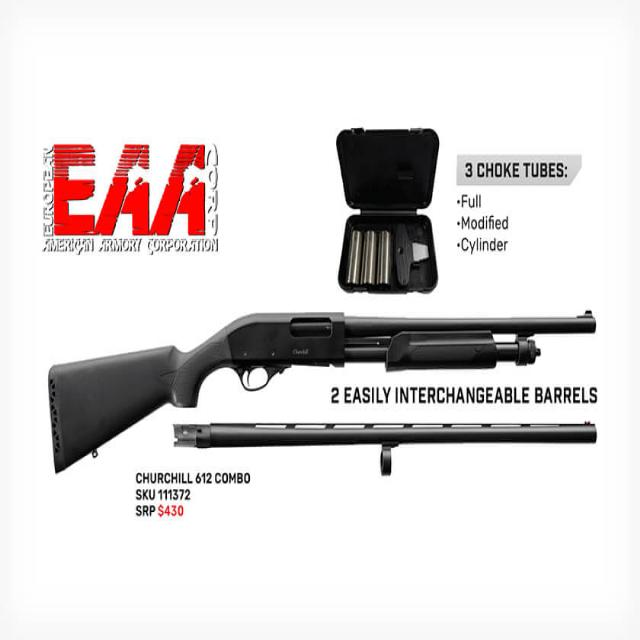ShotGun: (48, 312, 596, 472)
